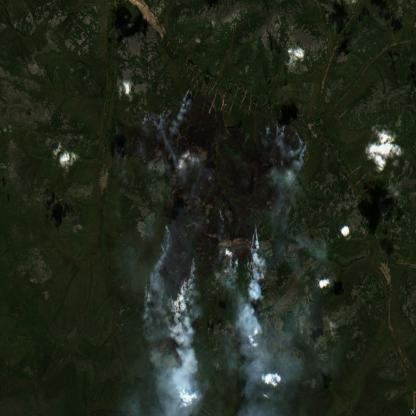fire: (112, 88, 309, 309)
